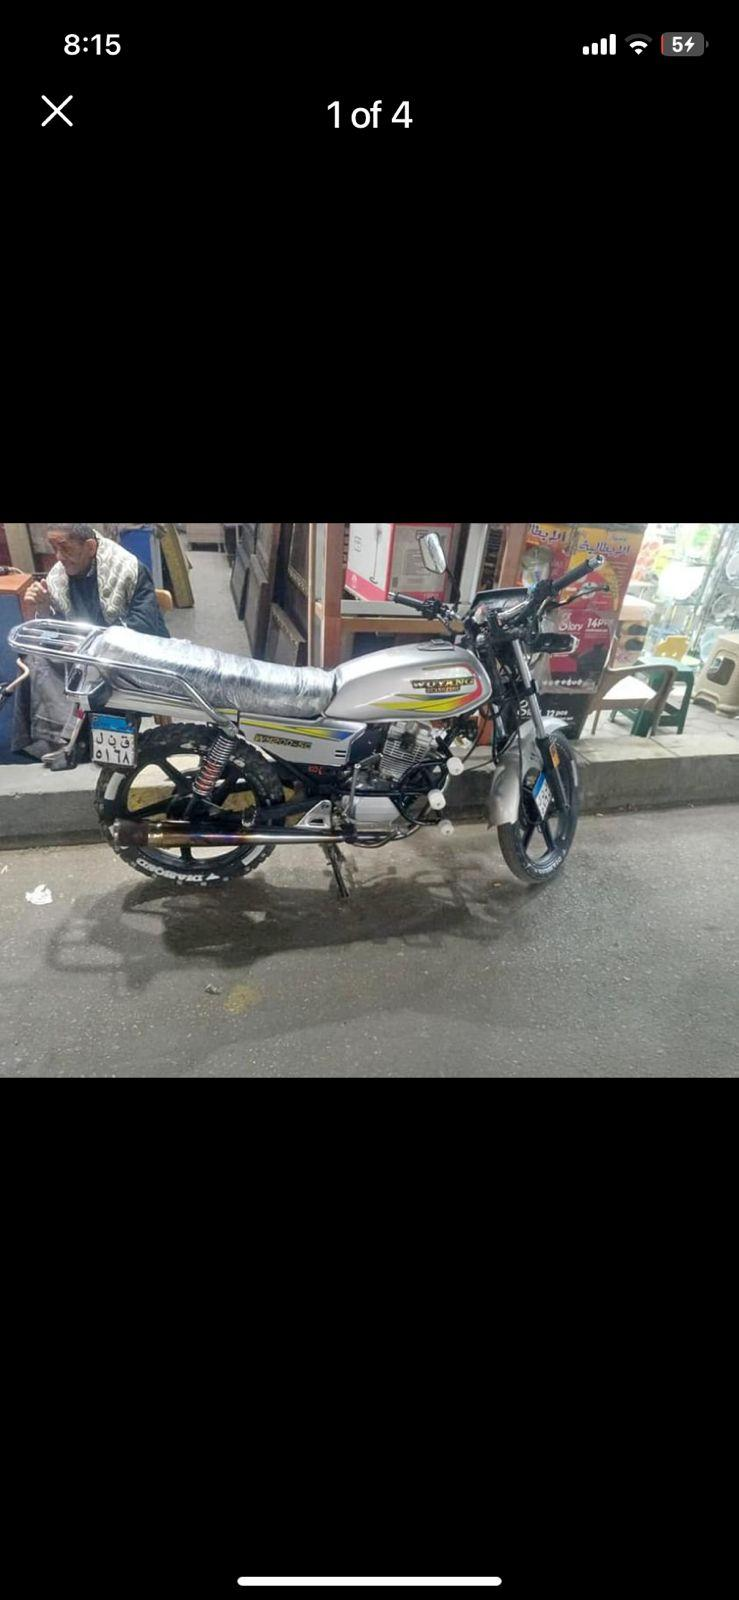License Plate: (90, 712, 140, 768)
